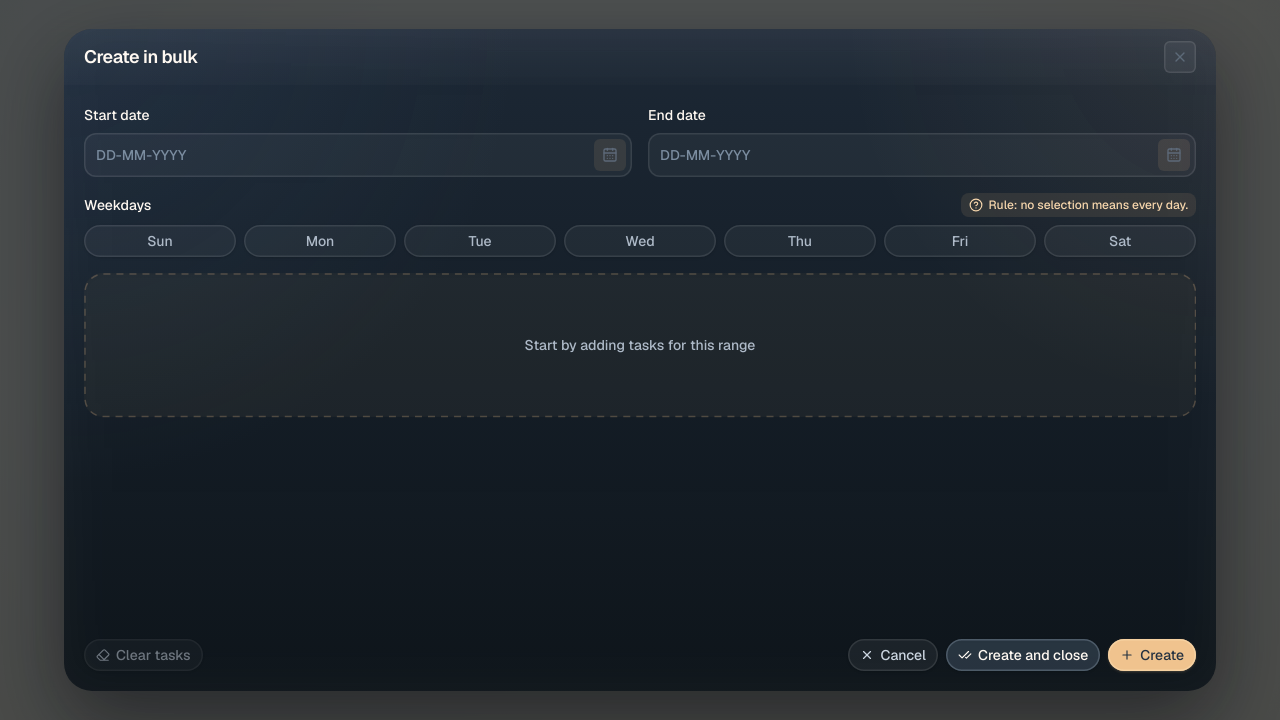
Scenario: BulkCalendarEditor › shows the shared selection footer for draft rows
The image size is (1280, 720).
Click the button "Start by adding tasks for this range" at [640, 345], box [84,273,1196,417]
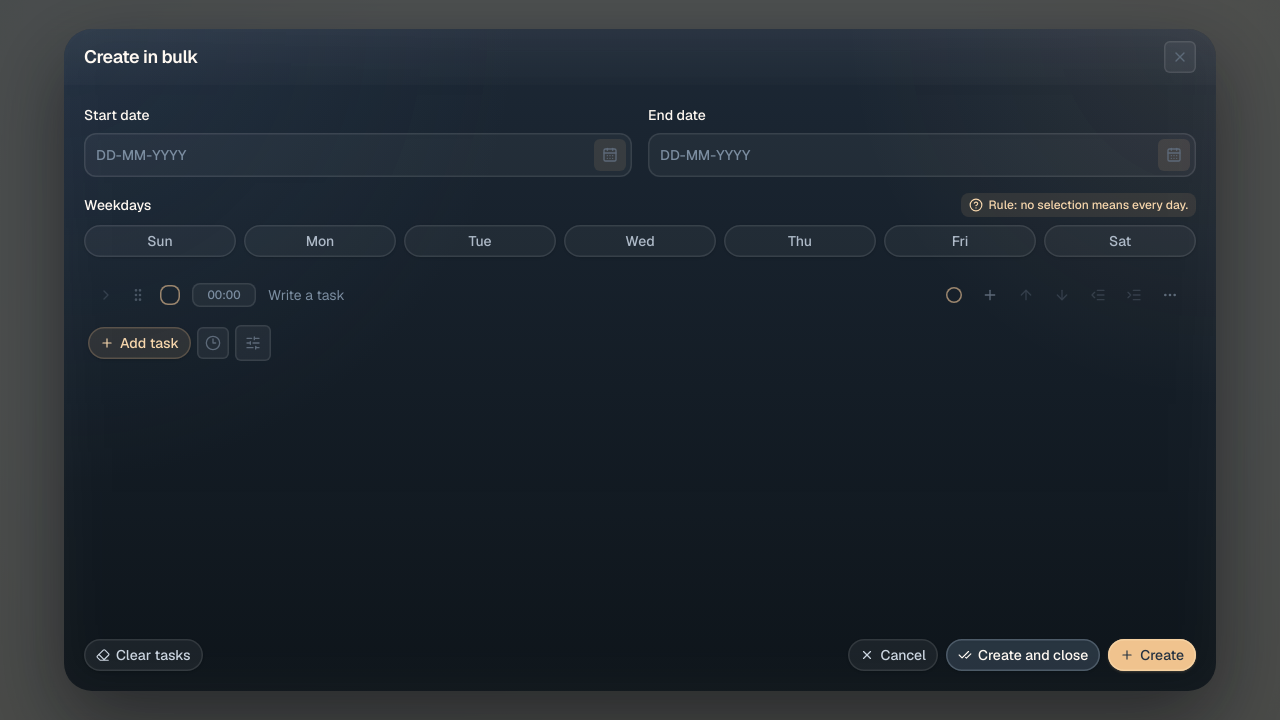
Click the button named "Select task" at [954, 295], box [936,277,972,313]
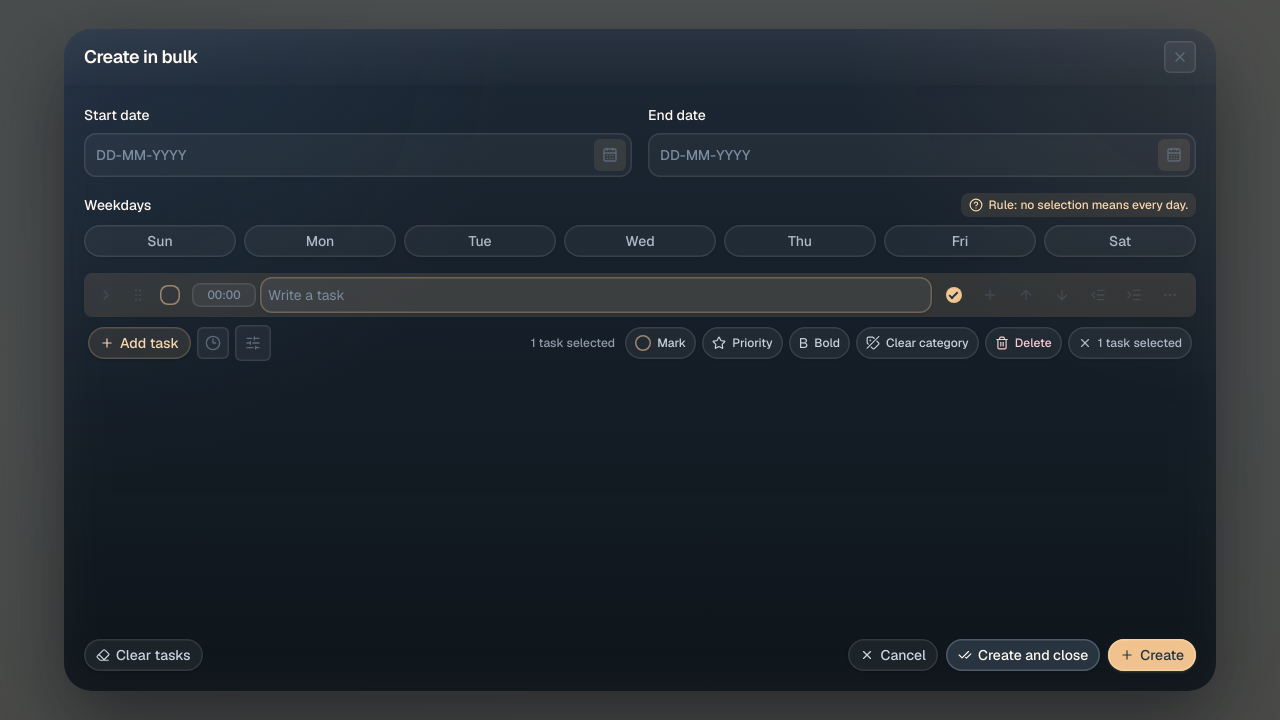
Result: the button "1 task selected" is shown at [1068,327,1192,359]
